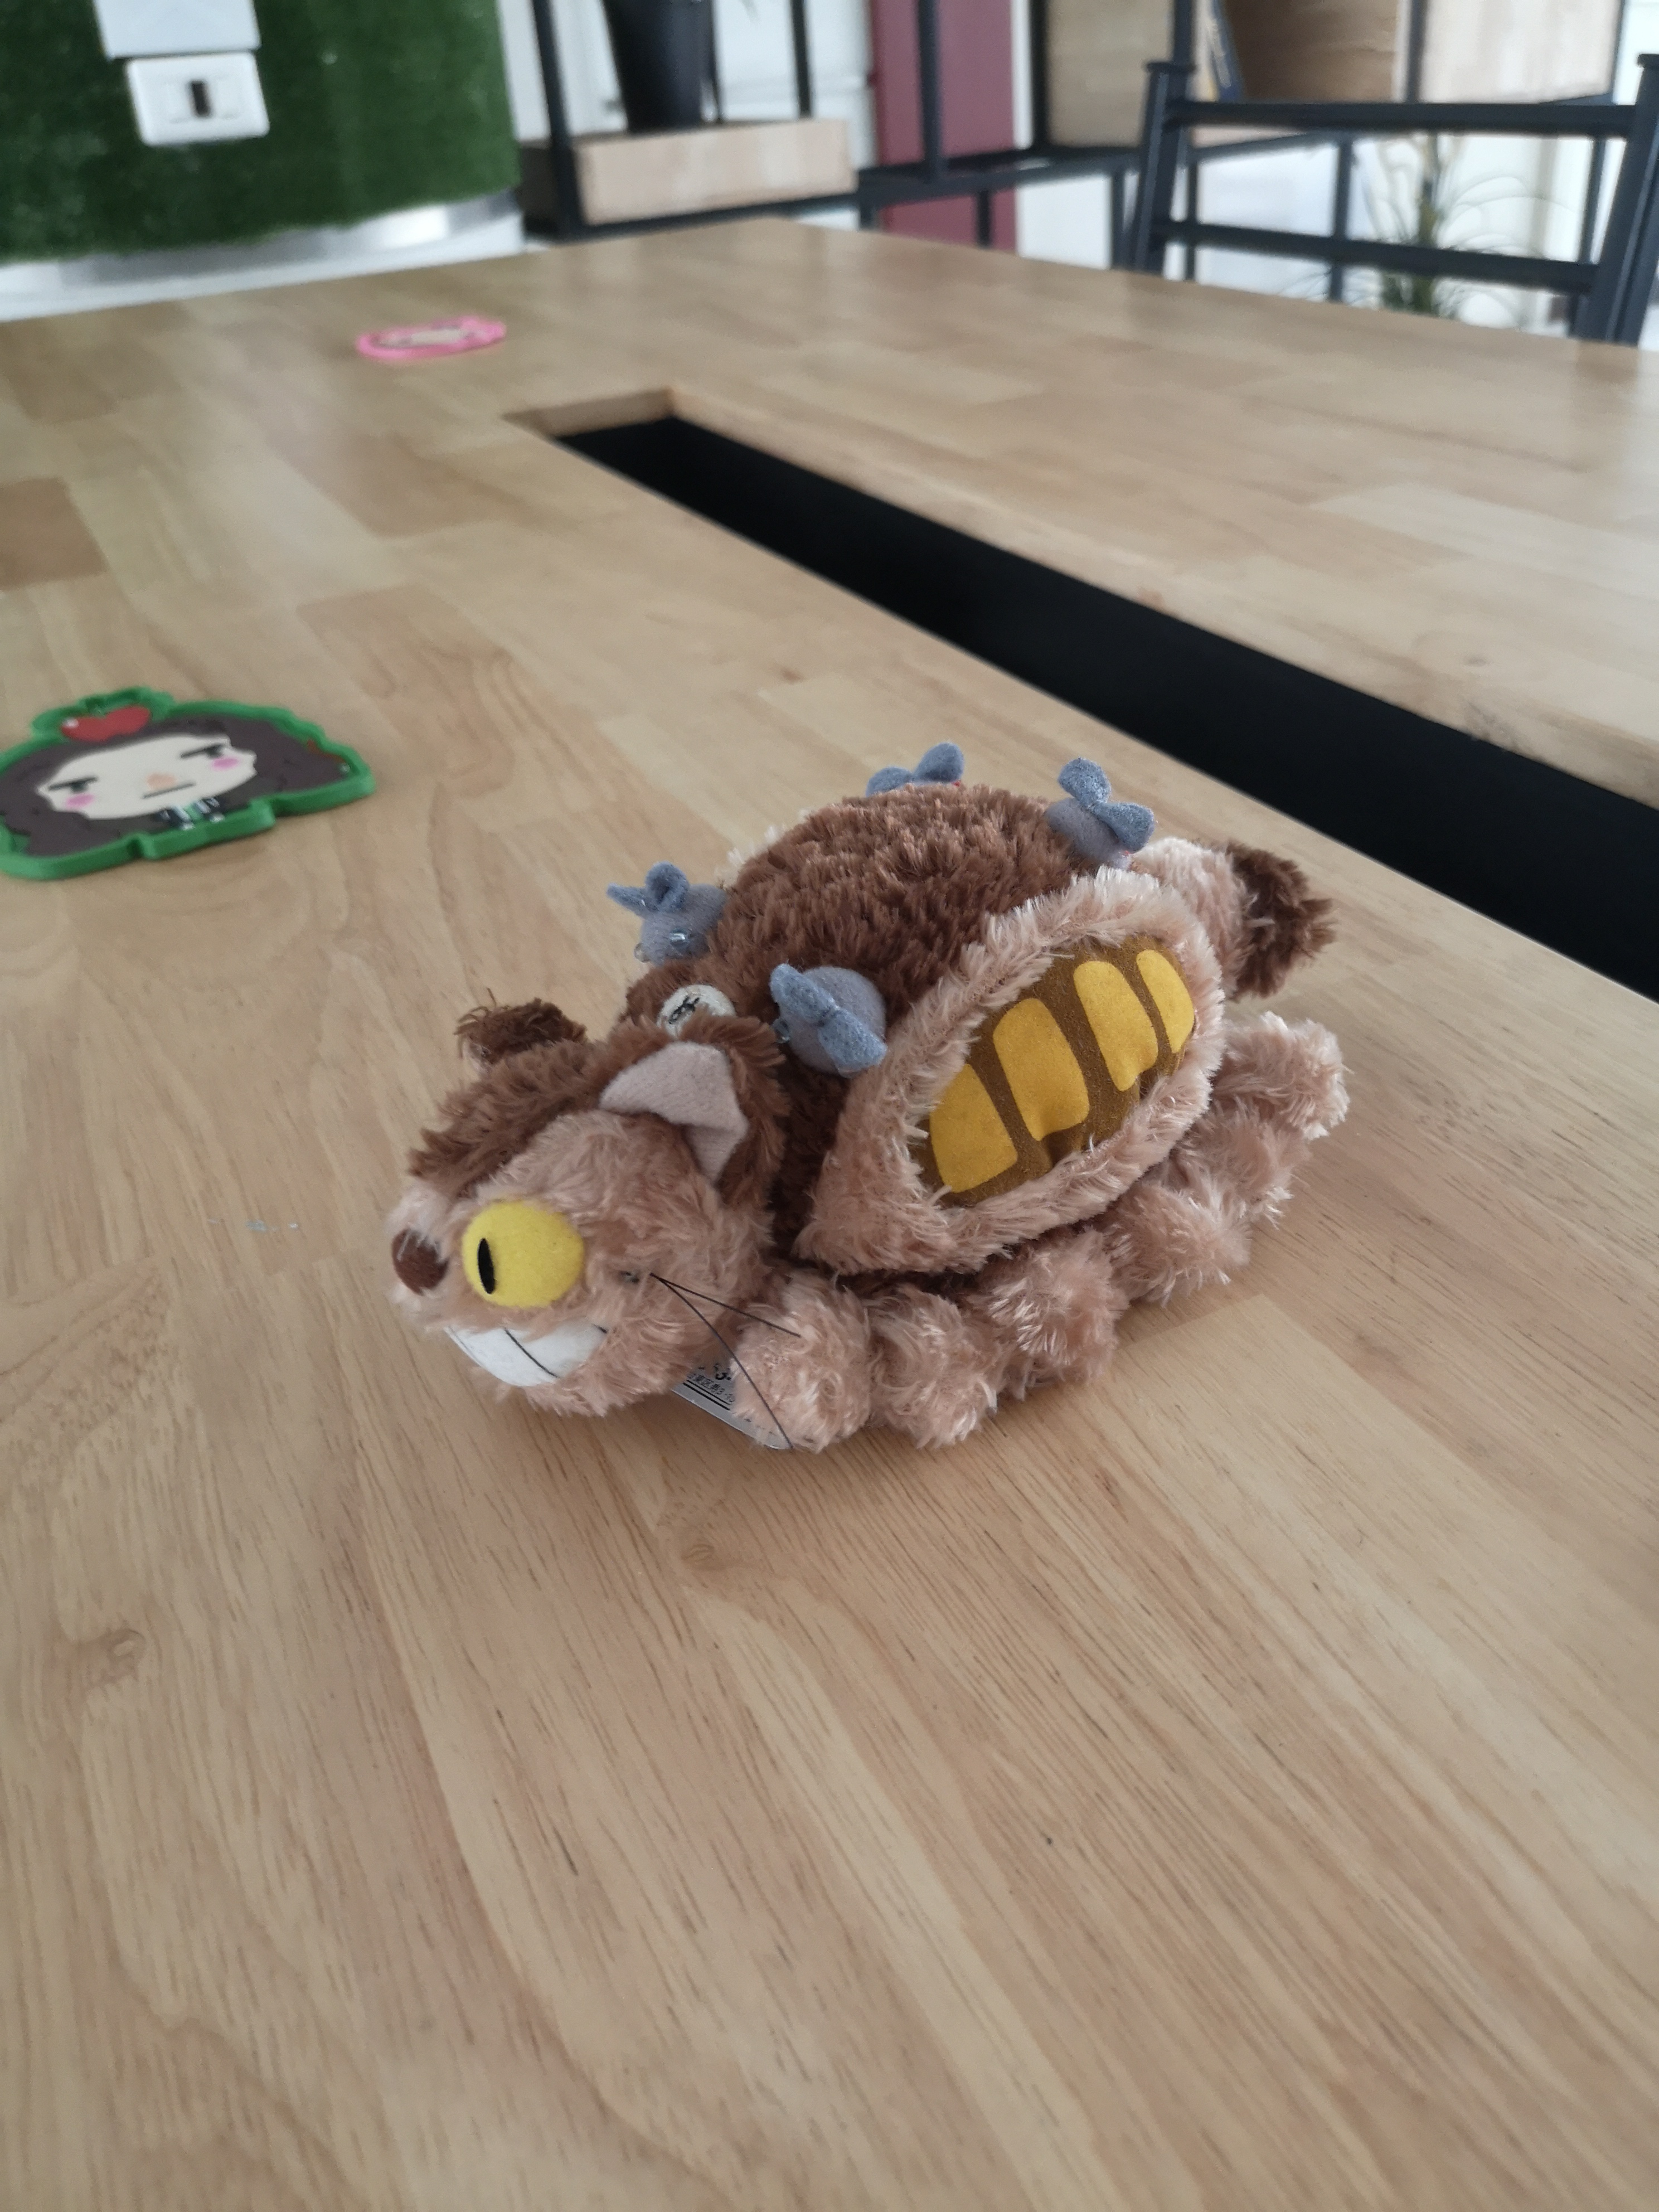nekobus: (369, 726, 1363, 1470)
